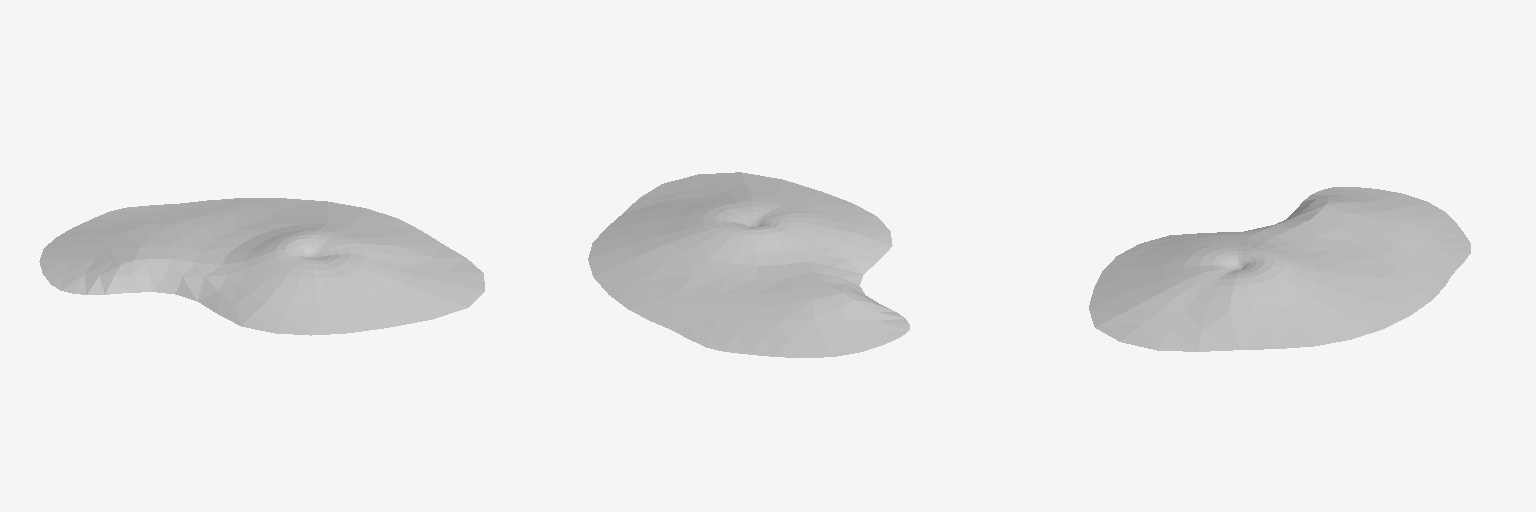
File: island.obj
3 renders of one model, left to right at view 1: azimuth 30°, elevation 25°; view 2: azimuth 150°, elevation 25°; view 3: azimuth 270°, elevation 25°, orthographic.
Parts seen in each view (by area): view 1: obj.island.000_Sphere; view 2: obj.island.000_Sphere; view 3: obj.island.000_Sphere.
Boxes of the visible parts, x1=… form: obj.island.000_Sphere: x1=39, y1=198, x2=484, y2=335; obj.island.000_Sphere: x1=588, y1=172, x2=909, y2=357; obj.island.000_Sphere: x1=1089, y1=187, x2=1470, y2=351.
Bounding box in the file's own units: 47.28 × 3.54 × 46.22.